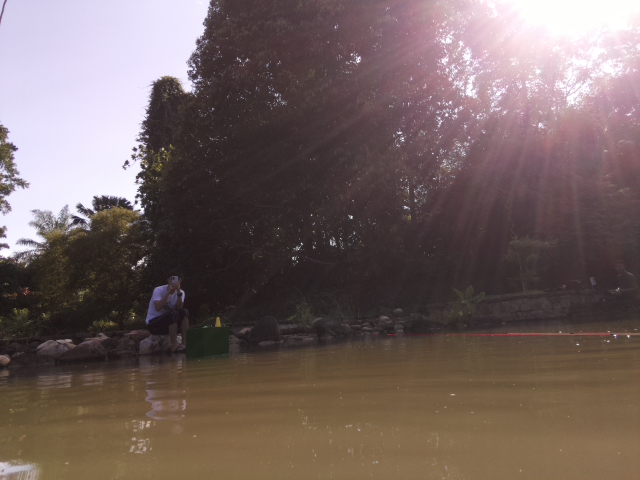checkpoint: (210, 312, 225, 327)
obstacle: (186, 328, 229, 360)
